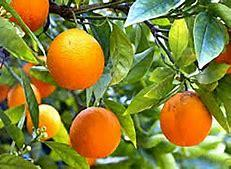orange: (149, 89, 218, 151), (48, 19, 109, 86), (60, 102, 114, 151)
